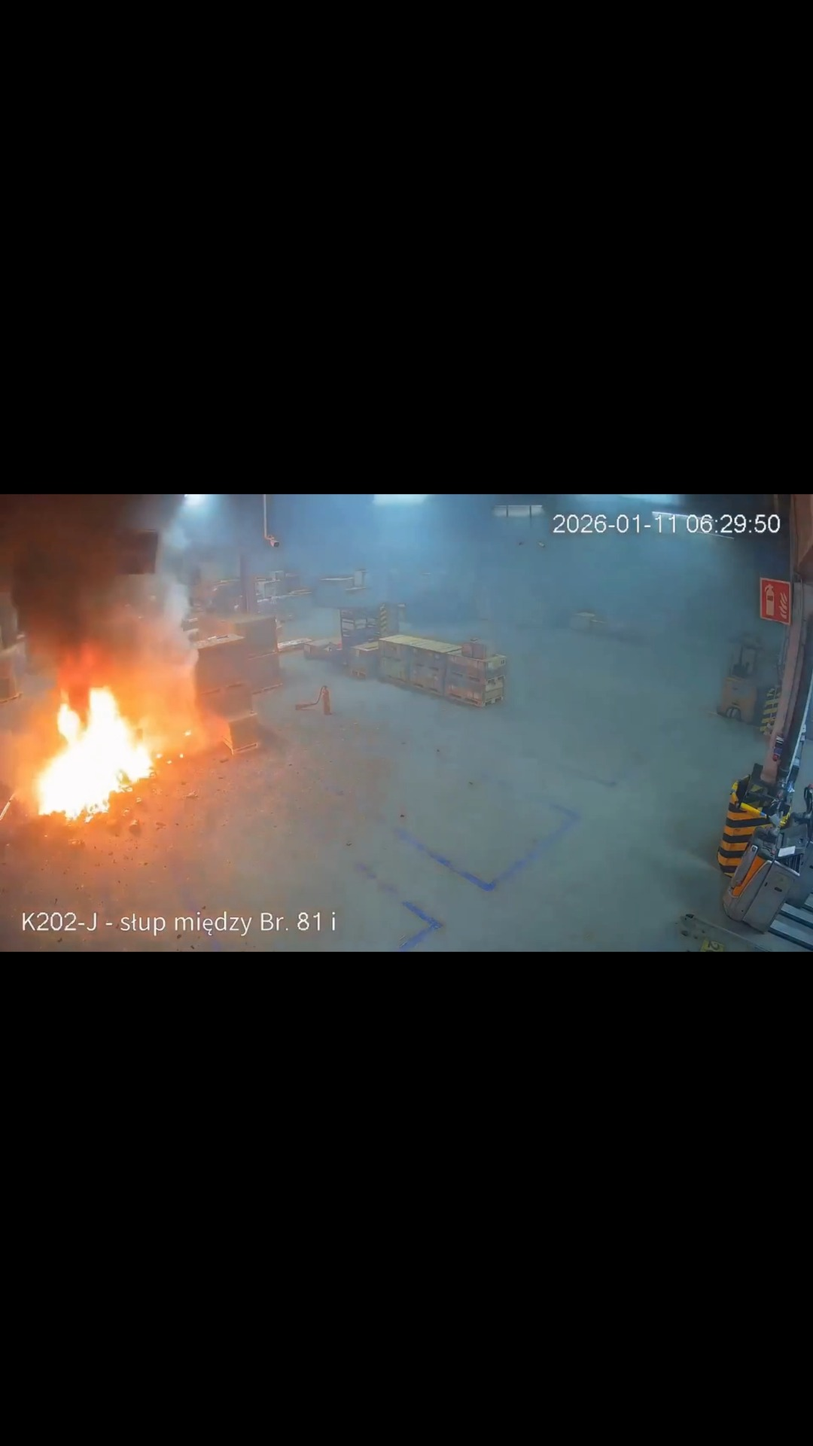fire: (17, 632, 224, 828)
smoke: (0, 496, 206, 707)
